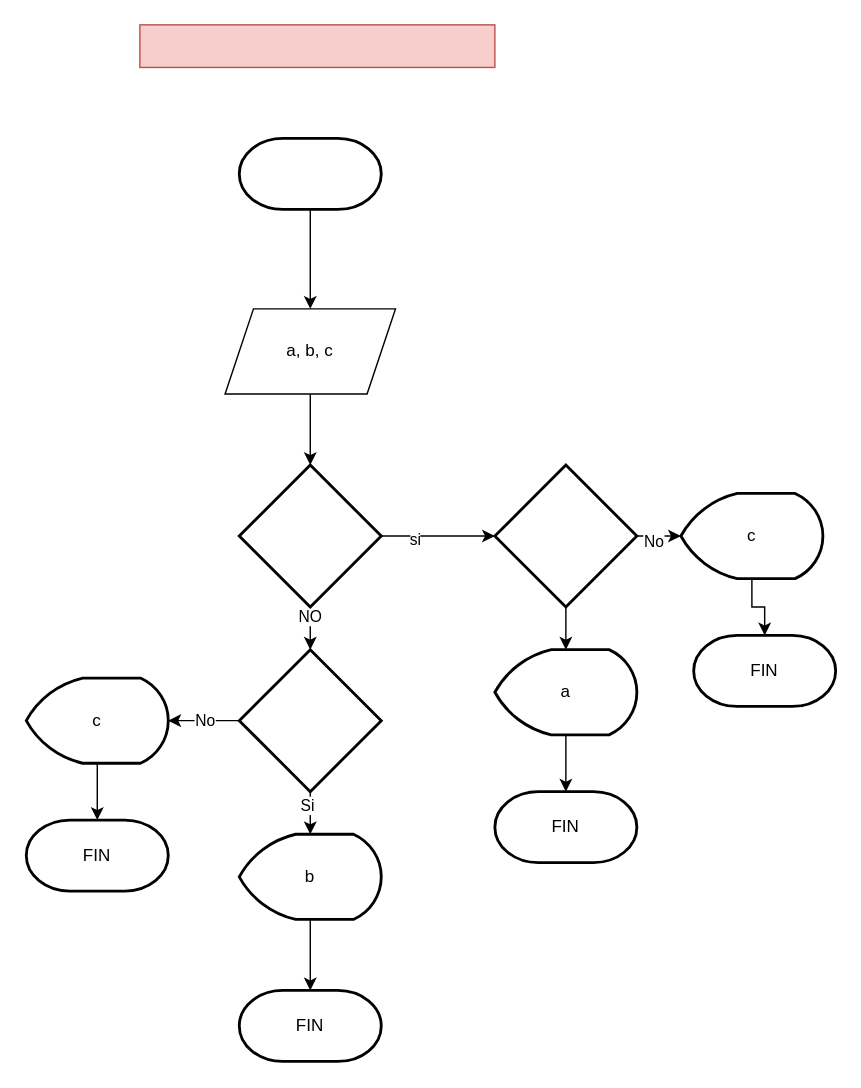
Image size: 861x1088. Some labels were removed from this diagram. The centre of each missing label's shape, as x and y in pixels:
"a>b" belongs at point 309,535.
"a>c" belongs at point 565,535.
"b>c" belongs at point 309,720.
"EJERCICIO: MAYOR A TRES NUMEROS" belongs at point 316,45.
"INICIO" belongs at point 309,173.
